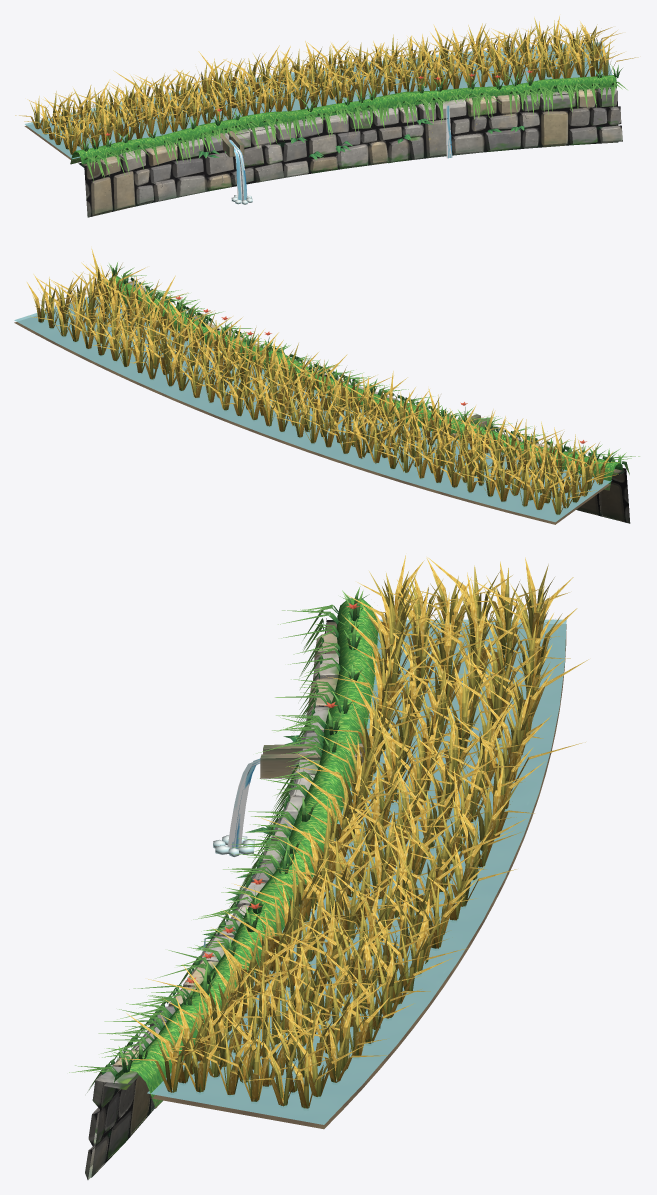
Rendered from terrace_concave_ripe.glb.
3 renders of one model, top to bottom at view 1: azimuth 30°, elevation 25°; view 2: azimuth 150°, elevation 25°; view 3: azimuth 270°, elevation 25°, orthographic. The views are drawn at different scales.
Parts seen in each view (by area): view 1: terrace_concave_ripe_plants, terrace_concave_ripe_wall, terrace_concave_ripe_dike, terrace_concave_ripe_water, terrace_concave_ripe_spout_fall, terrace_concave_ripe_spout; view 2: terrace_concave_ripe_plants, terrace_concave_ripe_water, terrace_concave_ripe_dike, terrace_concave_ripe_wall; view 3: terrace_concave_ripe_plants, terrace_concave_ripe_water, terrace_concave_ripe_dike, terrace_concave_ripe_wall, terrace_concave_ripe_spout, terrace_concave_ripe_spout_fall.
Part boxes in pixels (bbox=[...]): terrace_concave_ripe_plants: bbox=[15, 16, 638, 181]; terrace_concave_ripe_wall: bbox=[78, 87, 622, 217]; terrace_concave_ripe_dike: bbox=[24, 49, 616, 164]; terrace_concave_ripe_water: bbox=[25, 42, 612, 159]; terrace_concave_ripe_spout_fall: bbox=[229, 139, 247, 200]; terrace_concave_ripe_spout: bbox=[218, 131, 244, 157]; terrace_concave_ripe_plants: bbox=[27, 248, 639, 514]; terrace_concave_ripe_water: bbox=[14, 296, 611, 522]; terrace_concave_ripe_dike: bbox=[14, 276, 623, 524]; terrace_concave_ripe_wall: bbox=[128, 281, 630, 523]; terrace_concave_ripe_plants: bbox=[69, 555, 588, 1109]; terrace_concave_ripe_water: bbox=[147, 619, 566, 1124]; terrace_concave_ripe_dike: bbox=[113, 598, 566, 1129]; terrace_concave_ripe_wall: bbox=[85, 618, 338, 1179]; terrace_concave_ripe_spout: bbox=[260, 743, 364, 778]; terrace_concave_ripe_spout_fall: bbox=[228, 758, 260, 848].
Bounding box in the file's own units: 13.38 × 1.95 × 5.59.
6 materials, 5 textured.
